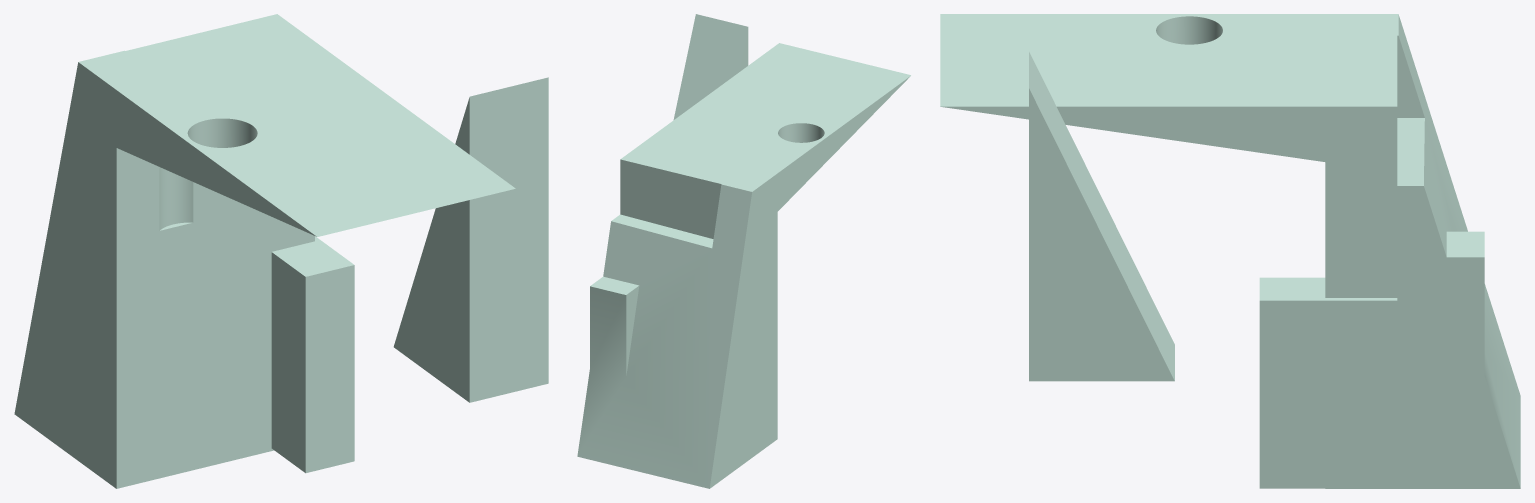
3 views of the same model, side by side, from view 1: azimuth 30°, elevation 25°; view 2: azimuth 150°, elevation 25°; view 3: azimuth 270°, elevation 25° (orthographic). The views are drawn at different scales.
Visible parts, largest first — view 1: Renderer Node; view 2: Renderer Node; view 3: Renderer Node.
Part boxes in pixels (x1,y1,x2,y2): Renderer Node: (14,14,548,488); Renderer Node: (577,14,910,488); Renderer Node: (940,14,1520,488).
Size of the model in its own units: 0.7969 by 1.25 by 1.51.
